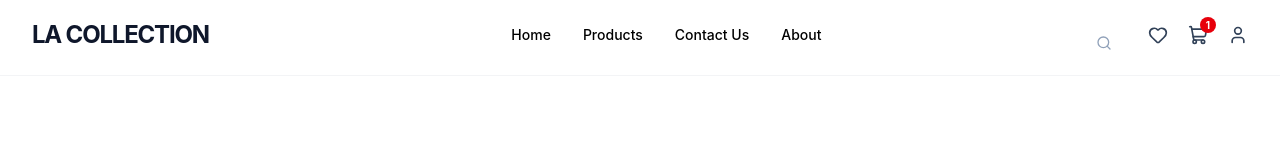
it: Navbar component › toggles the search input when the search icon button is clicked
Click the button named "toggle search": point(1104, 43) [1096,35,1112,51]
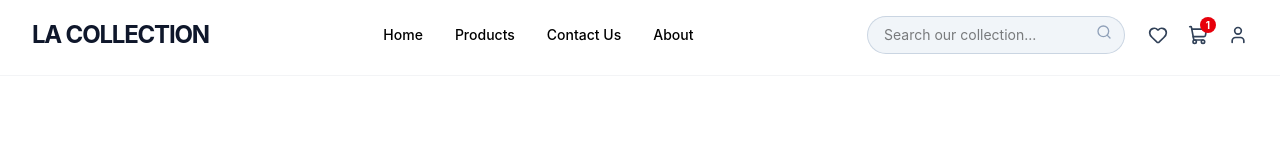
Expected: the field with placeholder "Search our collection..." is shown, [868,17,1124,53]
